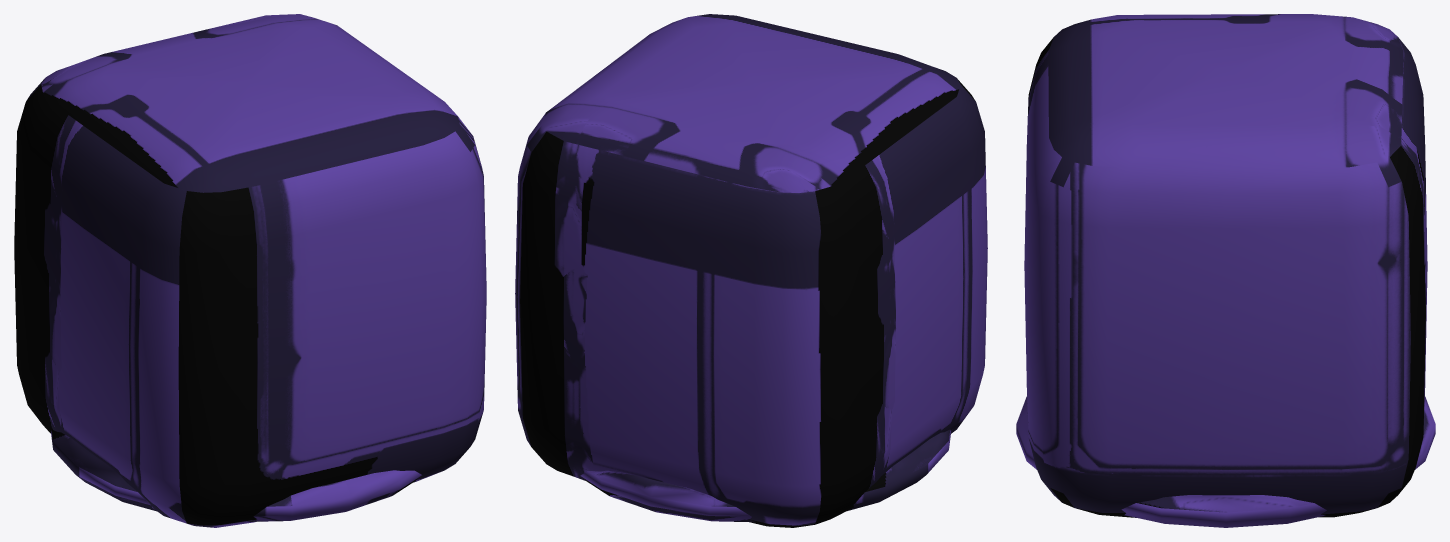
The model's file is Estela_AntebrazoIzq.fbx.
3 views of the same model, side by side, from view 1: azimuth 30°, elevation 25°; view 2: azimuth 150°, elevation 25°; view 3: azimuth 270°, elevation 25° (orthographic). The views are drawn at different scales.
Visible parts, largest first — view 1: Estela_AntebrazoIzq; view 2: Estela_AntebrazoIzq; view 3: Estela_AntebrazoIzq.
Boxes of the visible parts, <box> form: Estela_AntebrazoIzq: <box>14,14,486,527</box>; Estela_AntebrazoIzq: <box>515,14,987,527</box>; Estela_AntebrazoIzq: <box>1016,14,1435,527</box>.
Bounding box in the file's own units: 1.12 × 1.15 × 1.12.
